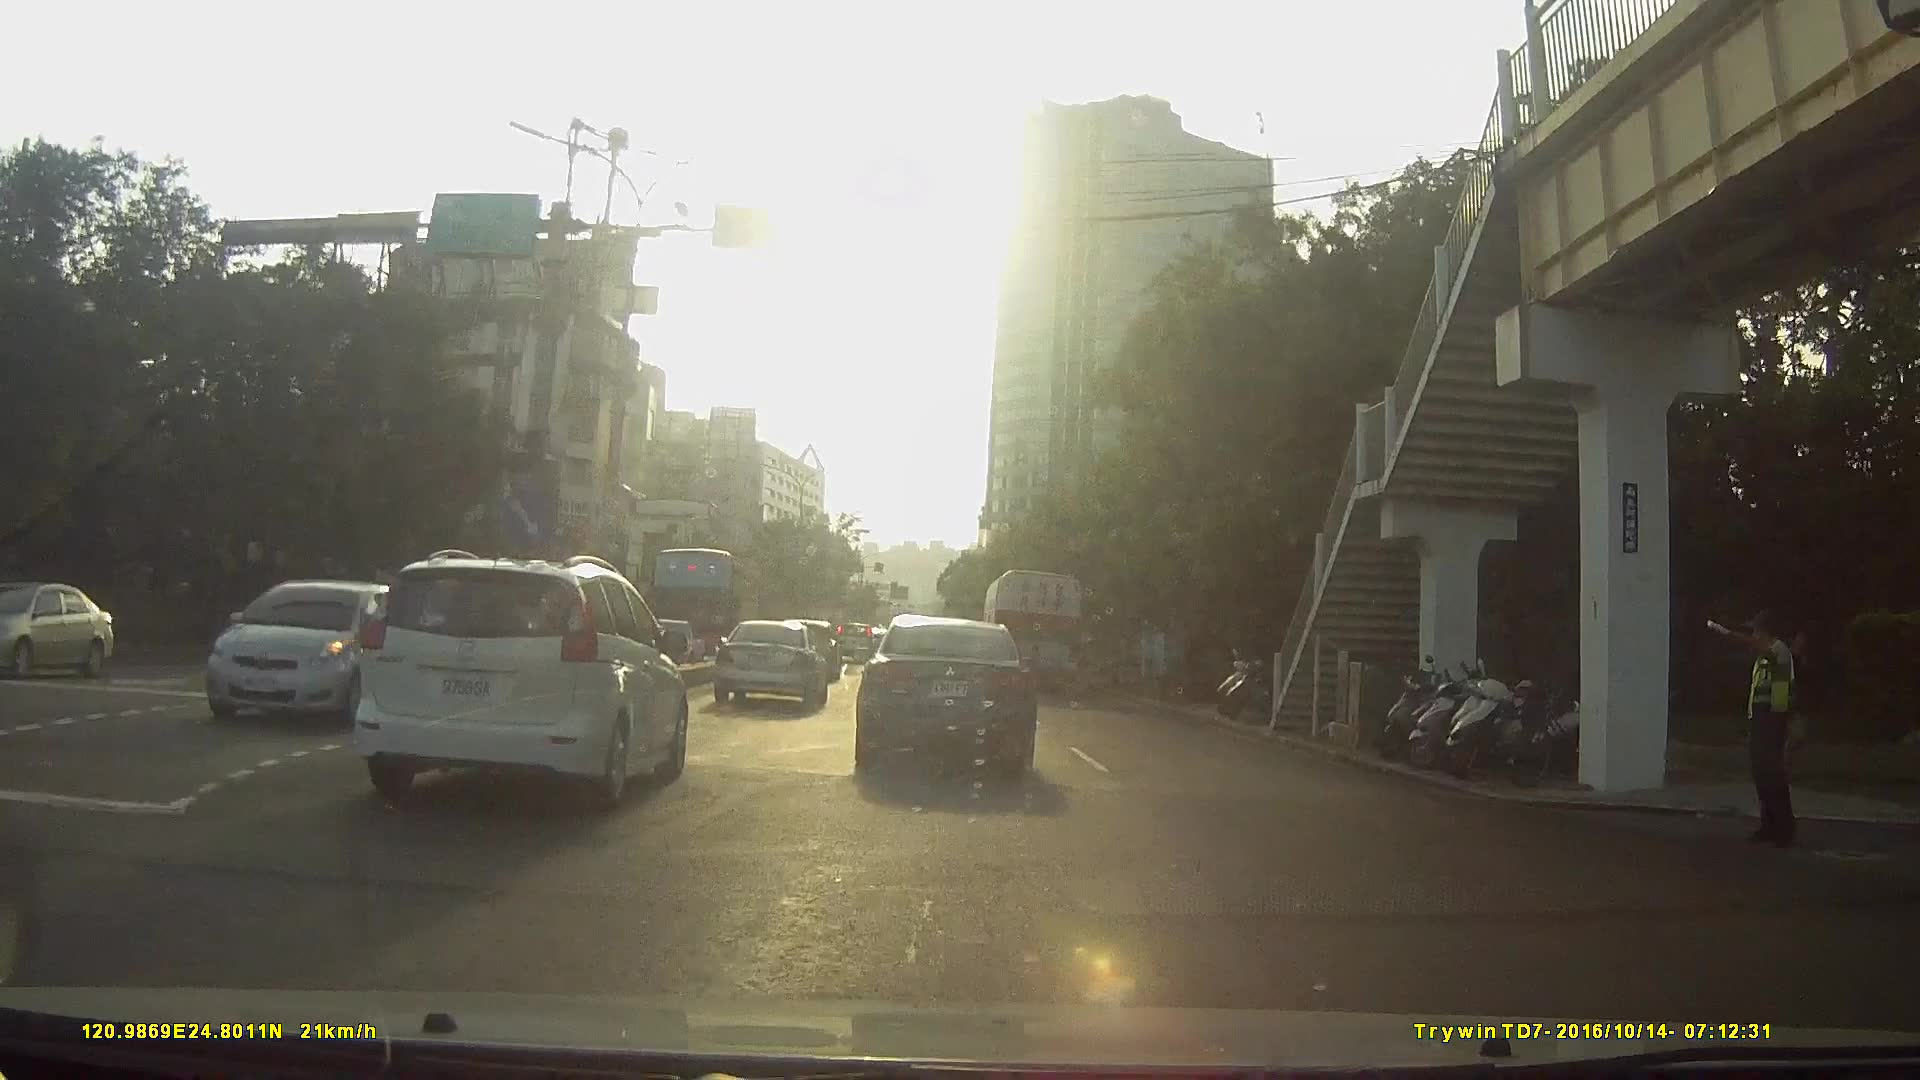pedestrian: (1710, 598, 1813, 855)
vehicle: (250, 556, 684, 868), (356, 548, 690, 807), (186, 573, 420, 746), (855, 609, 1040, 780), (976, 567, 1085, 699), (641, 545, 763, 661), (1, 583, 137, 682), (715, 618, 830, 711), (830, 618, 877, 661)
